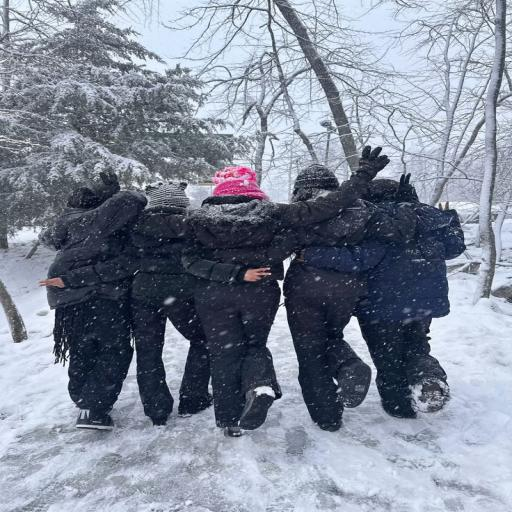hole: (29, 140, 469, 438)
